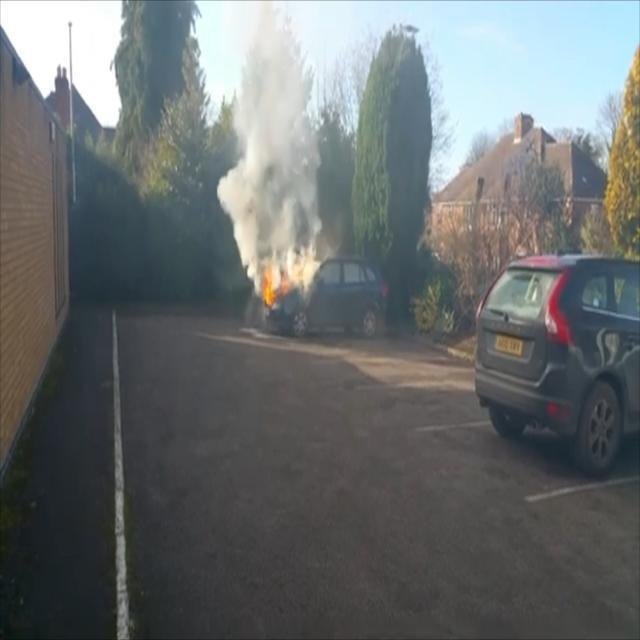fire: (256, 245, 314, 311)
